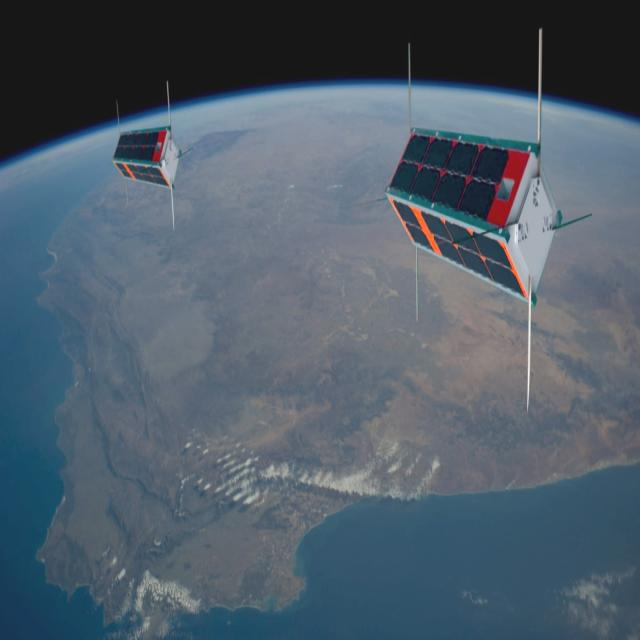satellite: (368, 16, 588, 393), (102, 64, 199, 238)
